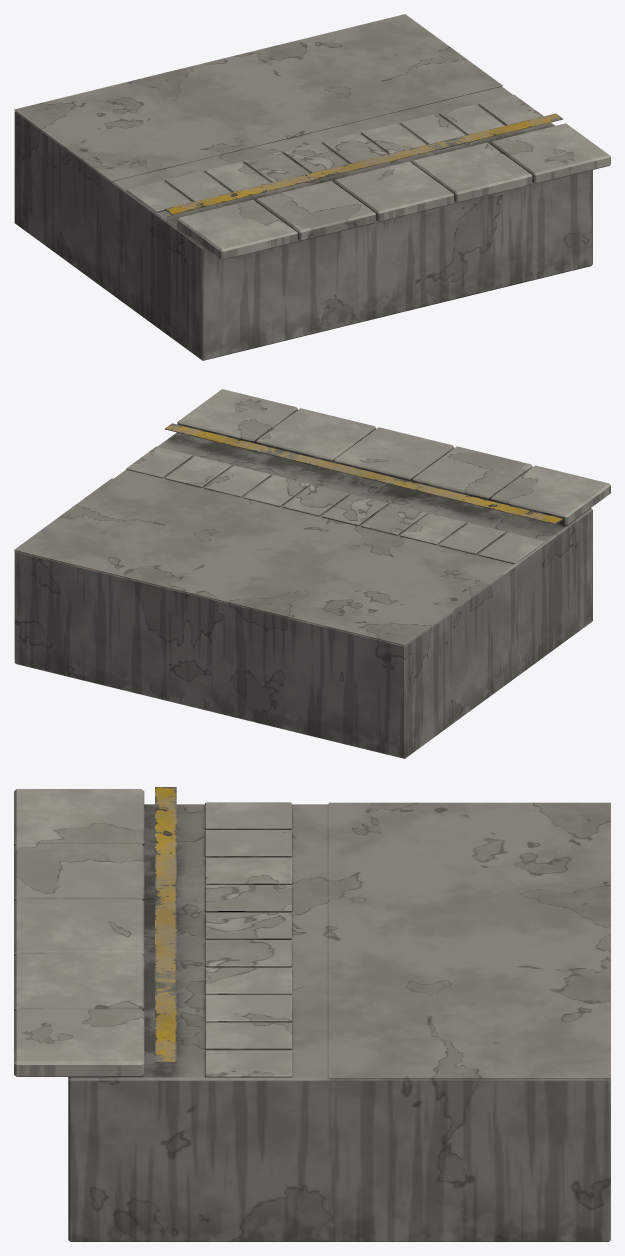
The model's file is PlatformEdge.fbx.
3 renders of one model, top to bottom at view 1: azimuth 30°, elevation 25°; view 2: azimuth 150°, elevation 25°; view 3: azimuth 270°, elevation 25°, orthographic. The views are drawn at different scales.
Parts seen in each view (by area): view 1: PlatformEdge; view 2: PlatformEdge; view 3: PlatformEdge.
Boxes of the visible parts, x1=… form: PlatformEdge: x1=14, y1=14, x2=610, y2=360; PlatformEdge: x1=14, y1=389, x2=610, y2=758; PlatformEdge: x1=14, y1=787, x2=610, y2=1241.
Bounding box in the file's own units: 9 × 2.75 × 8.25.
1 material, 1 textured.
